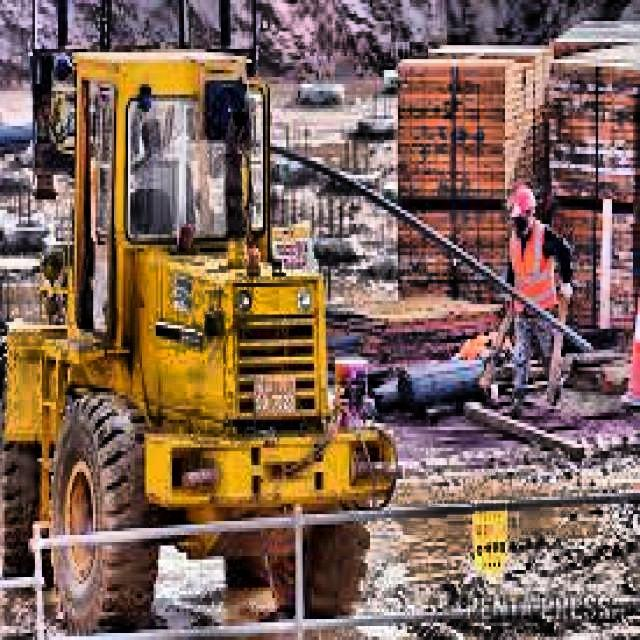bull_dozer/loader/grader: (3, 40, 396, 640)
person: (501, 183, 571, 411)
